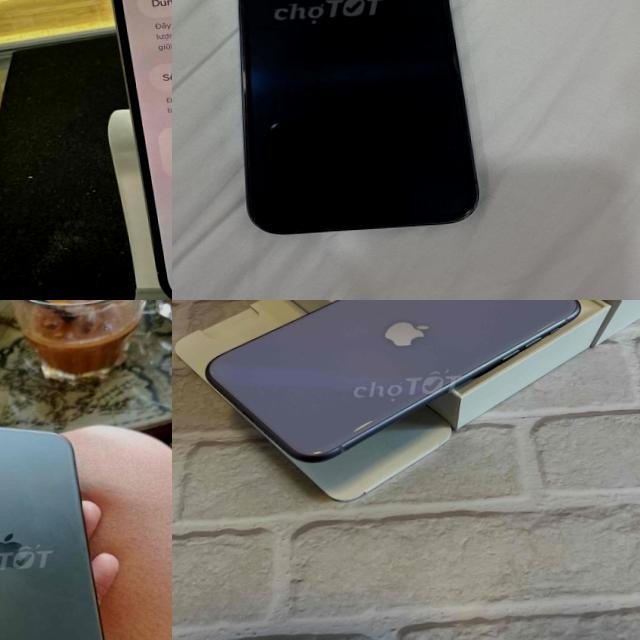gen_11: (205, 300, 579, 461), (0, 393, 118, 640)
gen_12_13: (223, 0, 487, 242)
gen_15: (77, 0, 172, 300)
